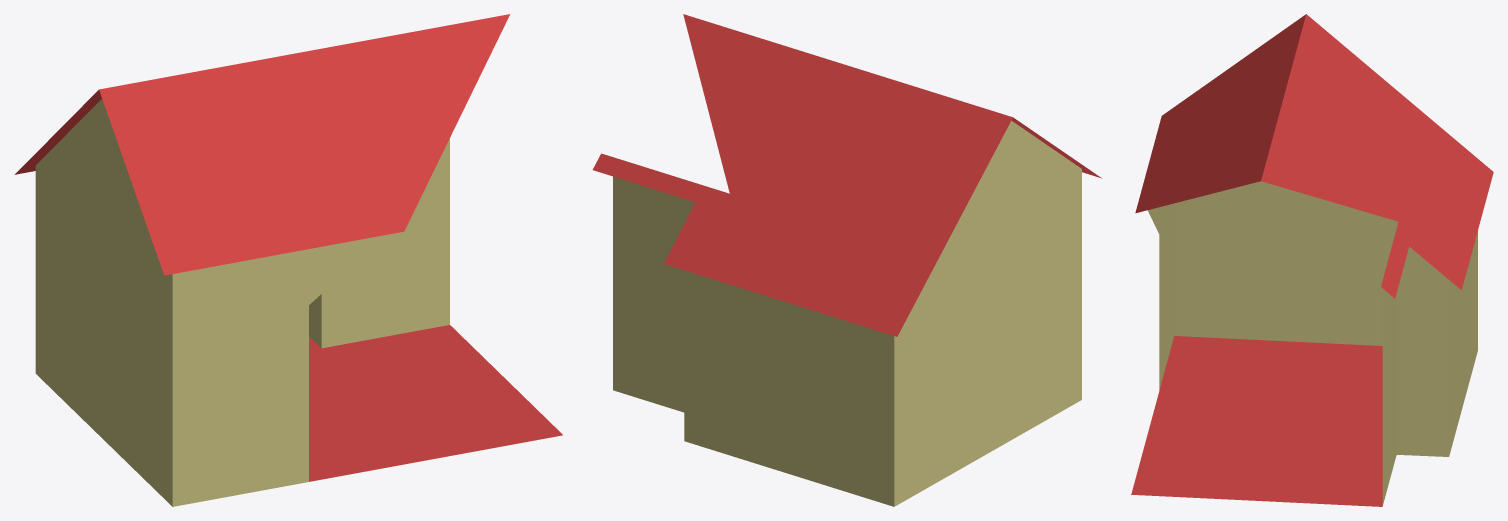
3 views of the same model, side by side, from view 1: azimuth 30°, elevation 25°; view 2: azimuth 150°, elevation 25°; view 3: azimuth 270°, elevation 25° (orthographic). The views are drawn at different scales.
Size of the model in its own units: 15.27 by 12.69 by 12.44.
